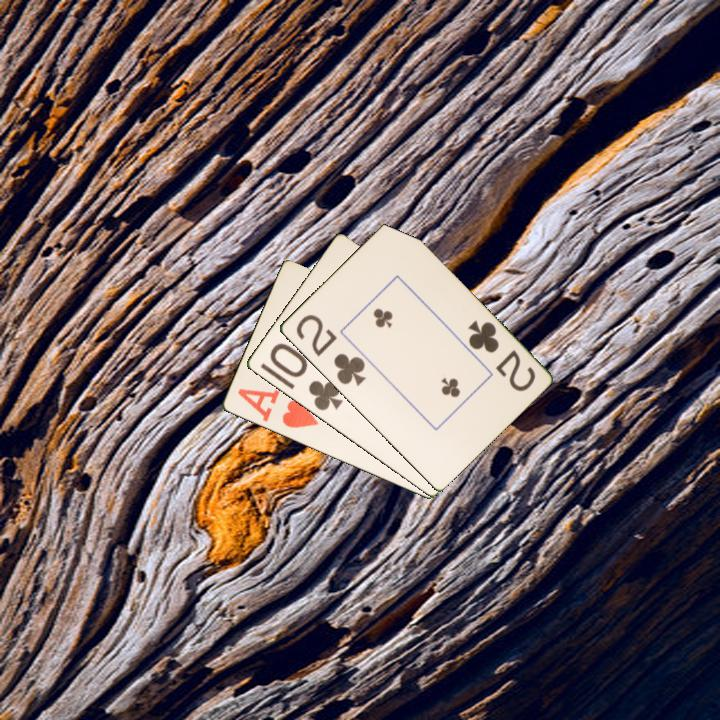10c: (265, 339, 346, 414)
2c: (292, 310, 368, 389), (464, 316, 538, 394)
Ah: (234, 385, 321, 431)
